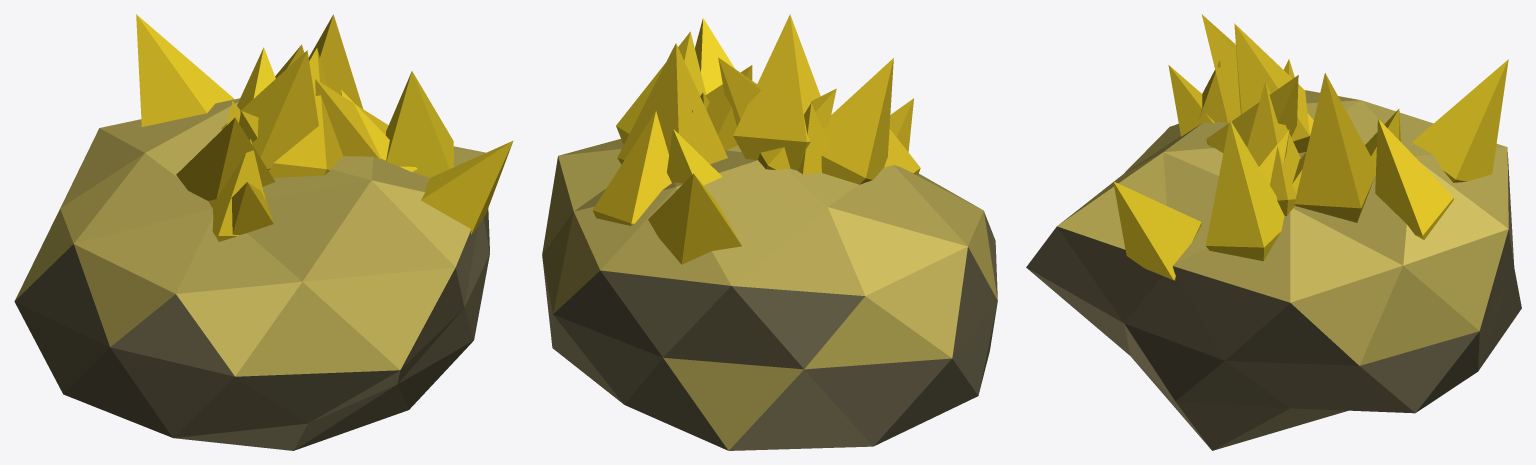
Rendered from sulfur.glb.
3 views of the same model, side by side, from view 1: azimuth 30°, elevation 25°; view 2: azimuth 150°, elevation 25°; view 3: azimuth 270°, elevation 25° (orthographic). The views are drawn at different scales.
Visible parts, largest first — view 1: Mesh; view 2: Mesh; view 3: Mesh.
Part boxes in pixels (<box>): Mesh: <box>14,14,513,450</box>; Mesh: <box>542,14,997,450</box>; Mesh: <box>1026,14,1521,450</box>.
Size of the model in its own units: 0.6017 by 0.4955 by 0.5823.
